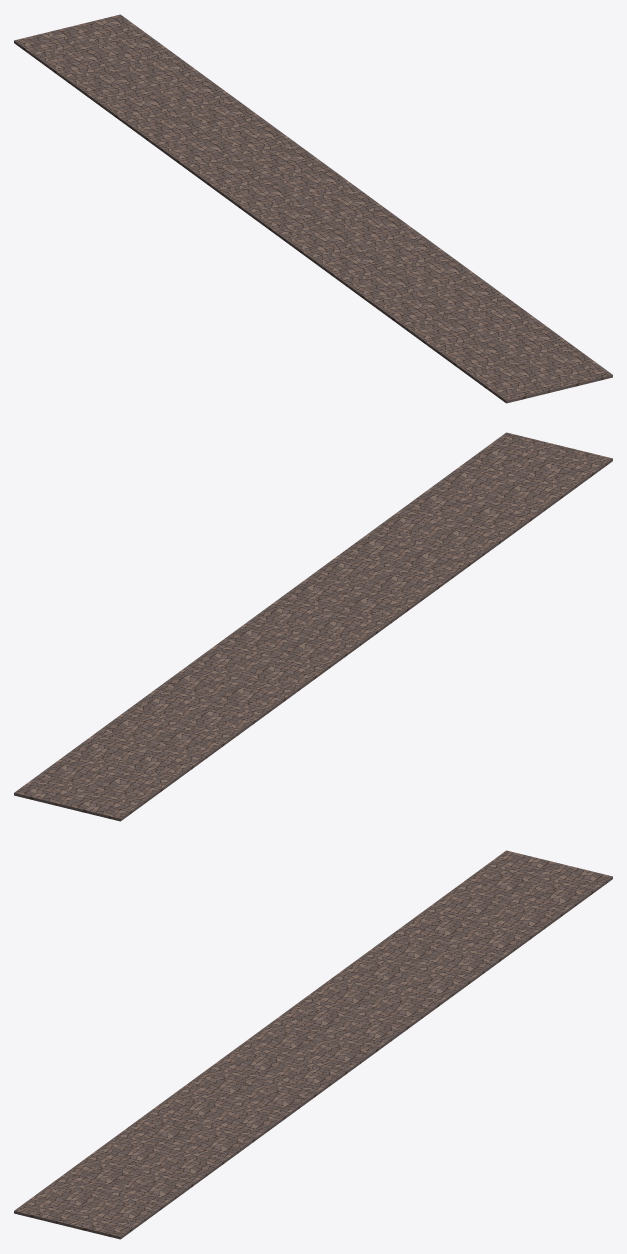
The model's file is exterior_sidewalk.fbx.
3 renders of one model, top to bottom at view 1: azimuth 30°, elevation 25°; view 2: azimuth 150°, elevation 25°; view 3: azimuth 330°, elevation 25°, orthographic.
Parts seen in each view (by area): view 1: exterior_sidewalk; view 2: exterior_sidewalk; view 3: exterior_sidewalk.
Part boxes in pixels (left/top/right/bottom): exterior_sidewalk: left=14, top=14, right=612, bottom=403; exterior_sidewalk: left=14, top=432, right=612, bottom=821; exterior_sidewalk: left=14, top=850, right=612, bottom=1239.
Bounding box in the file's own units: 400 × 9.57 × 3200.
